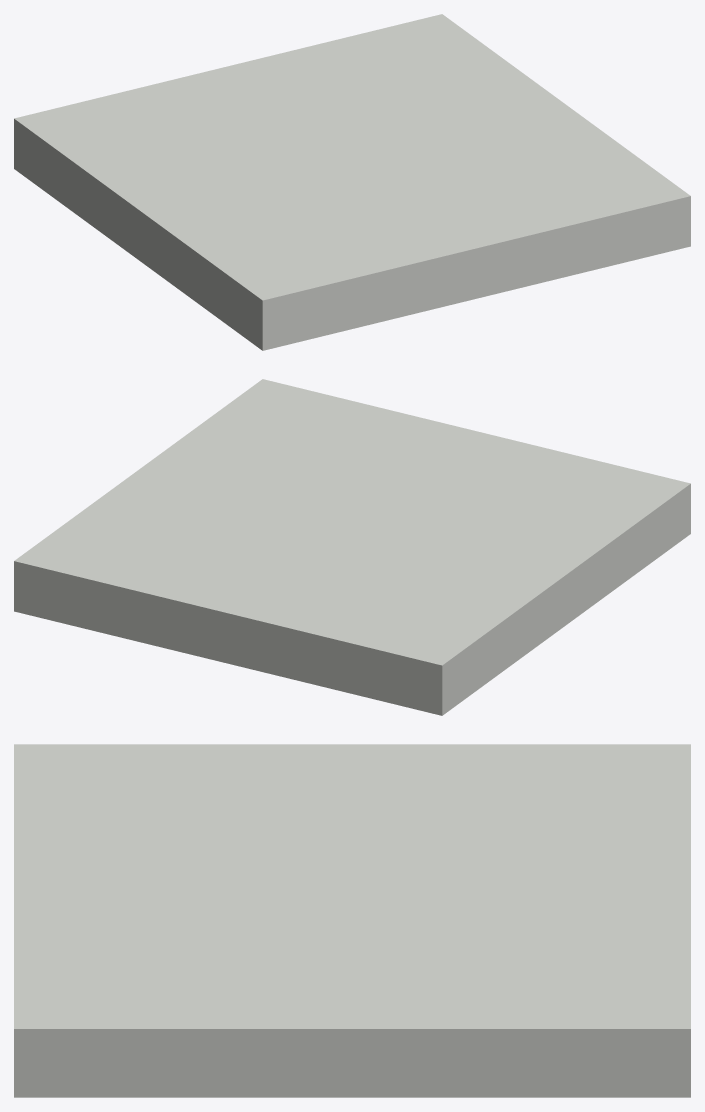
File: Focus light.FBX
3 views of the same model, one above another, from view 1: azimuth 30°, elevation 25°; view 2: azimuth 150°, elevation 25°; view 3: azimuth 270°, elevation 25° (orthographic). The views are drawn at different scales.
Visible parts, largest first — view 1: focus light; view 2: focus light; view 3: focus light.
Part boxes in pixels (box(x1,y1,x2,y2)): focus light: box(14, 14, 690, 350); focus light: box(14, 379, 690, 715); focus light: box(14, 744, 690, 1097).
Size of the model in its own units: 19.88 by 3.27 by 20.
Materials: 2 (1 with a texture image).
